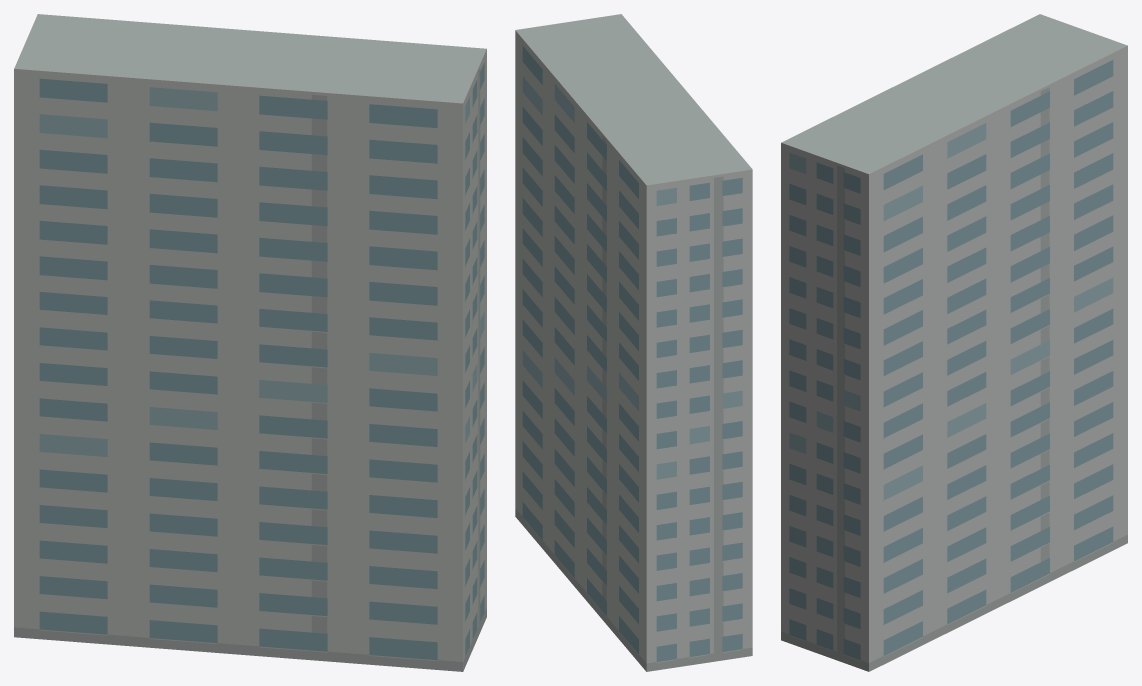
File: residential-34fc4530-cd3e-43bf-9481-94f6754c9886.glb
3 renders of one model, left to right at view 1: azimuth 30°, elevation 25°; view 2: azimuth 150°, elevation 25°; view 3: azimuth 270°, elevation 25°, orthographic. The views are drawn at different scales.
Visible parts, largest first — view 1: residential-34fc4530-cd3e-43bf-9481-94f6754c9886.tmp; view 2: residential-34fc4530-cd3e-43bf-9481-94f6754c9886.tmp; view 3: residential-34fc4530-cd3e-43bf-9481-94f6754c9886.tmp.
Boxes of the visible parts, x1,y1,x2,y2 form: residential-34fc4530-cd3e-43bf-9481-94f6754c9886.tmp: [14, 14, 486, 671]; residential-34fc4530-cd3e-43bf-9481-94f6754c9886.tmp: [515, 14, 752, 671]; residential-34fc4530-cd3e-43bf-9481-94f6754c9886.tmp: [781, 14, 1127, 671].
Size of the model in its own units: 32.47 by 47 by 29.69.
